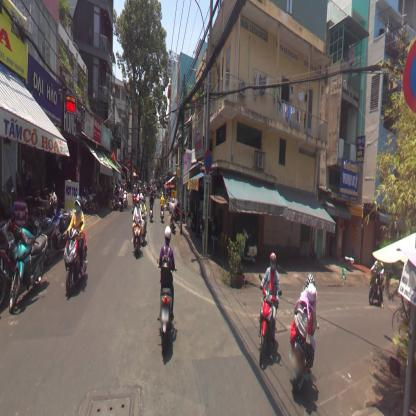Cam dung va do: (402, 32, 416, 118), (204, 148, 212, 172)
